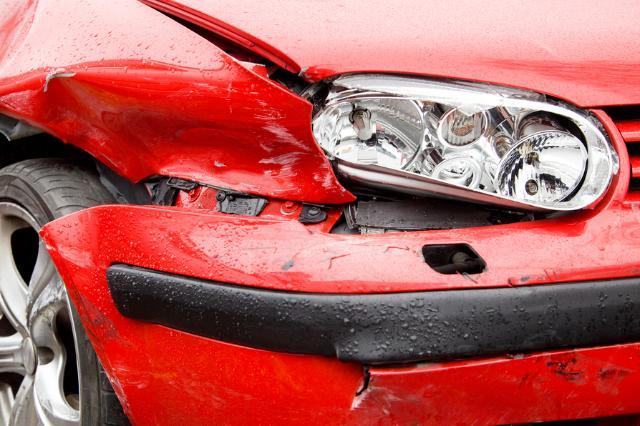Bumper: (70, 218, 571, 426)
Fender: (51, 35, 336, 198)
